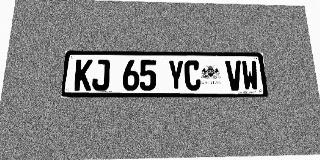5: (140, 60, 156, 91)
6: (122, 60, 139, 91)
C: (184, 60, 201, 91)
J: (92, 59, 110, 91)
K: (74, 59, 93, 91)
V: (225, 60, 243, 91)
W: (241, 61, 259, 91)
Y: (168, 60, 184, 91)
